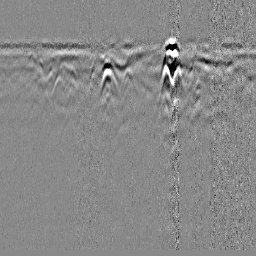cavity: (118, 64, 138, 96)
